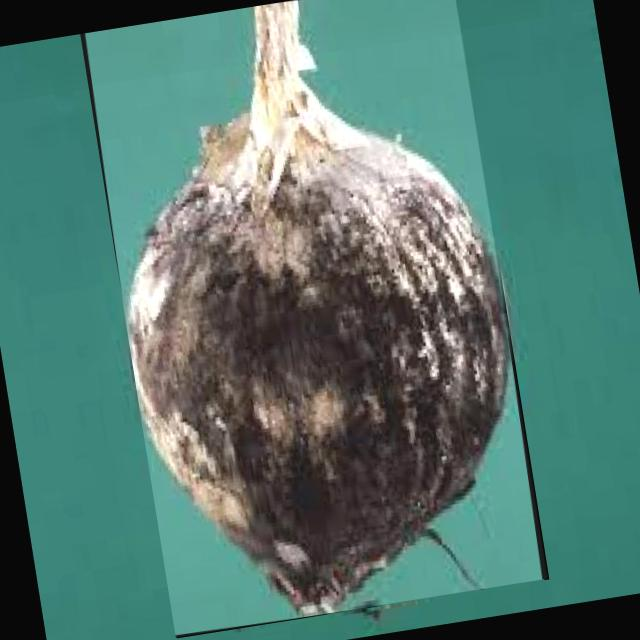mould: (130, 0, 512, 615)
